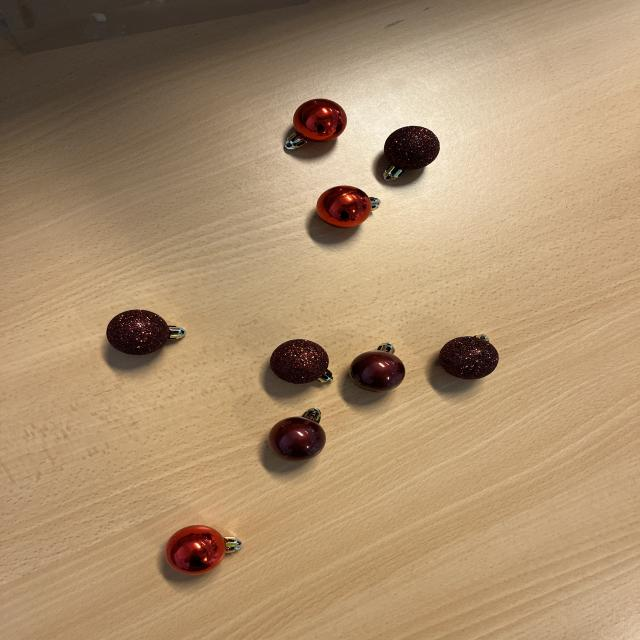glitter-bauble: (102, 306, 194, 358), (376, 123, 444, 185), (266, 336, 336, 392), (106, 310, 186, 356), (433, 331, 502, 381), (383, 126, 440, 182), (270, 339, 334, 384), (439, 334, 499, 380)
glossy-bauble: (154, 520, 250, 579), (280, 94, 351, 152), (165, 525, 243, 575), (308, 183, 382, 231), (284, 99, 347, 150), (317, 186, 381, 229)
wine-red-bauble: (261, 406, 332, 464), (346, 340, 408, 396), (267, 408, 327, 462), (349, 343, 406, 393)
